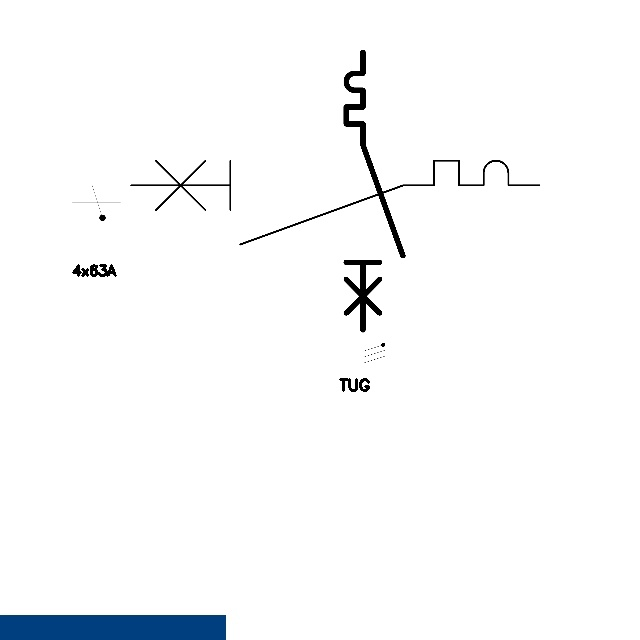interruptor_termomagnetico: (120, 150, 549, 255), (339, 45, 410, 337)
